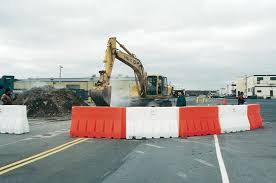barrier: (124, 105, 180, 141), (71, 106, 126, 142), (180, 103, 221, 139), (221, 102, 250, 136)
